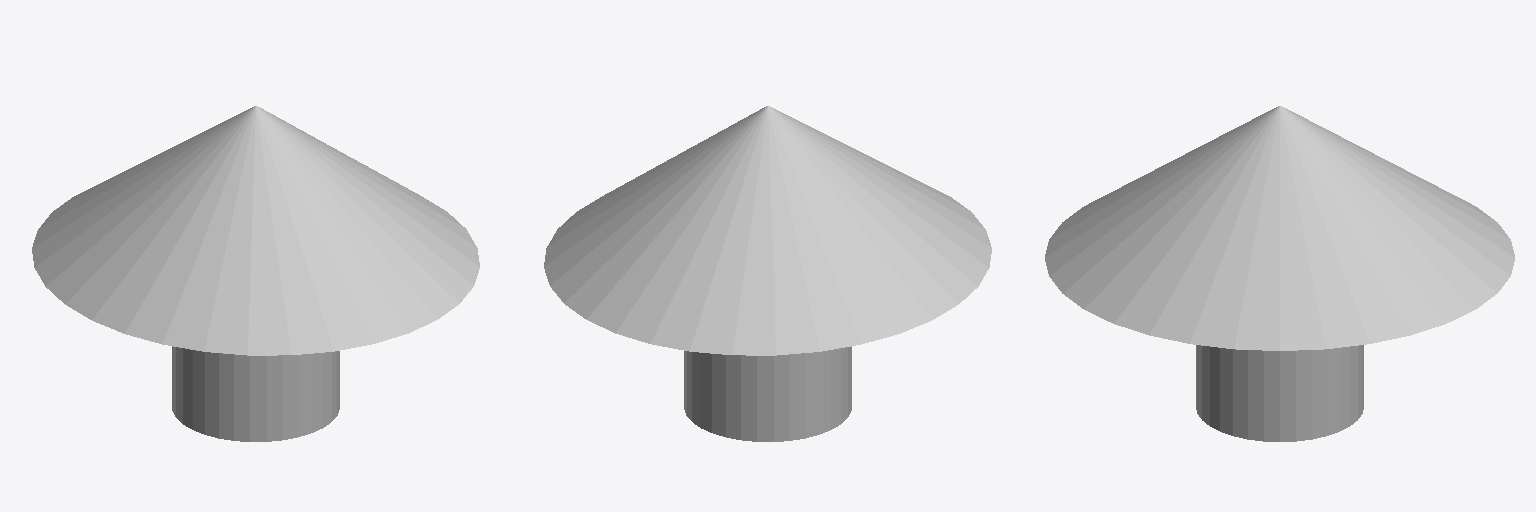
Rendered from tree_base.obj.
3 renders of one model, left to right at view 1: azimuth 30°, elevation 25°; view 2: azimuth 150°, elevation 25°; view 3: azimuth 270°, elevation 25°, orthographic.
Parts seen in each view (by area): view 1: Cone; view 2: Cone; view 3: Cone.
Boxes of the visible parts, x1,y1,x2,y2 form: Cone: [32, 106, 479, 441]; Cone: [544, 106, 991, 441]; Cone: [1045, 106, 1514, 441].
Size of the model in its own units: 5.24 by 3.95 by 5.59.